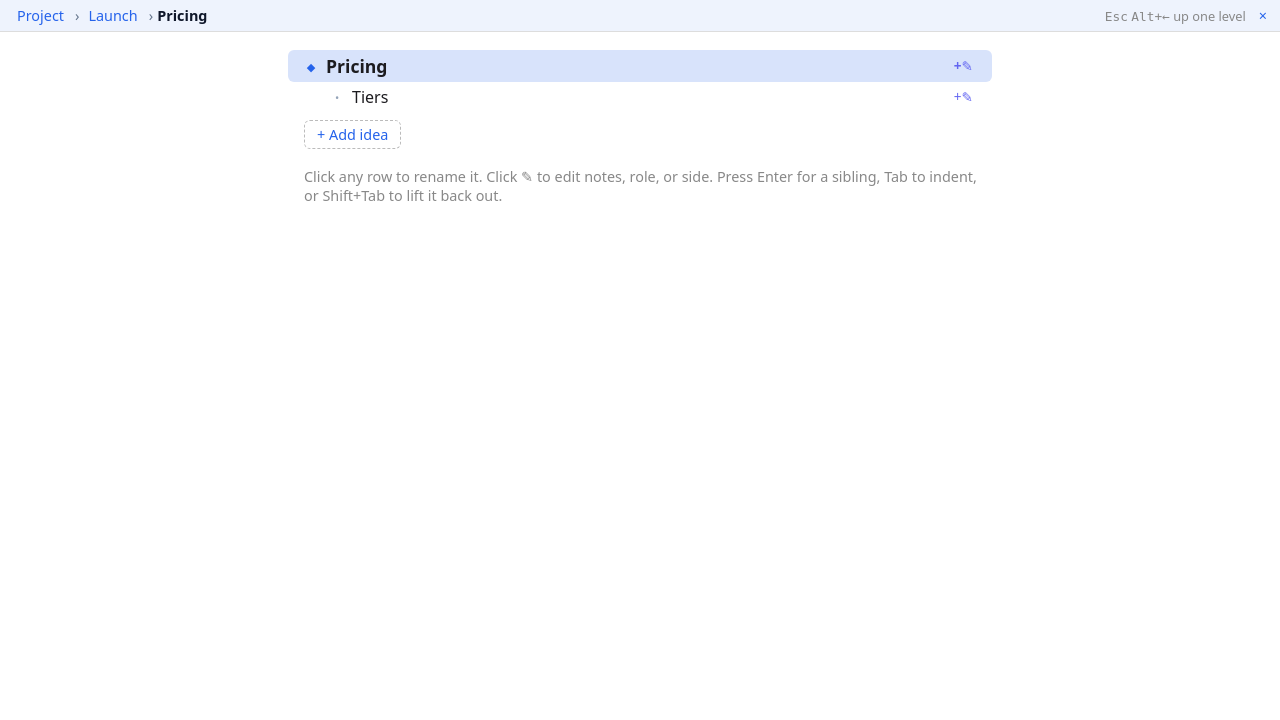
it: focused Outline (#146) › shows the branch as the root with a breadcrumb bar back to every level
This screenshot has width=1280, height=720.
Step 1. Click the button "Launch" → (113, 16), box [84,4,143,27]
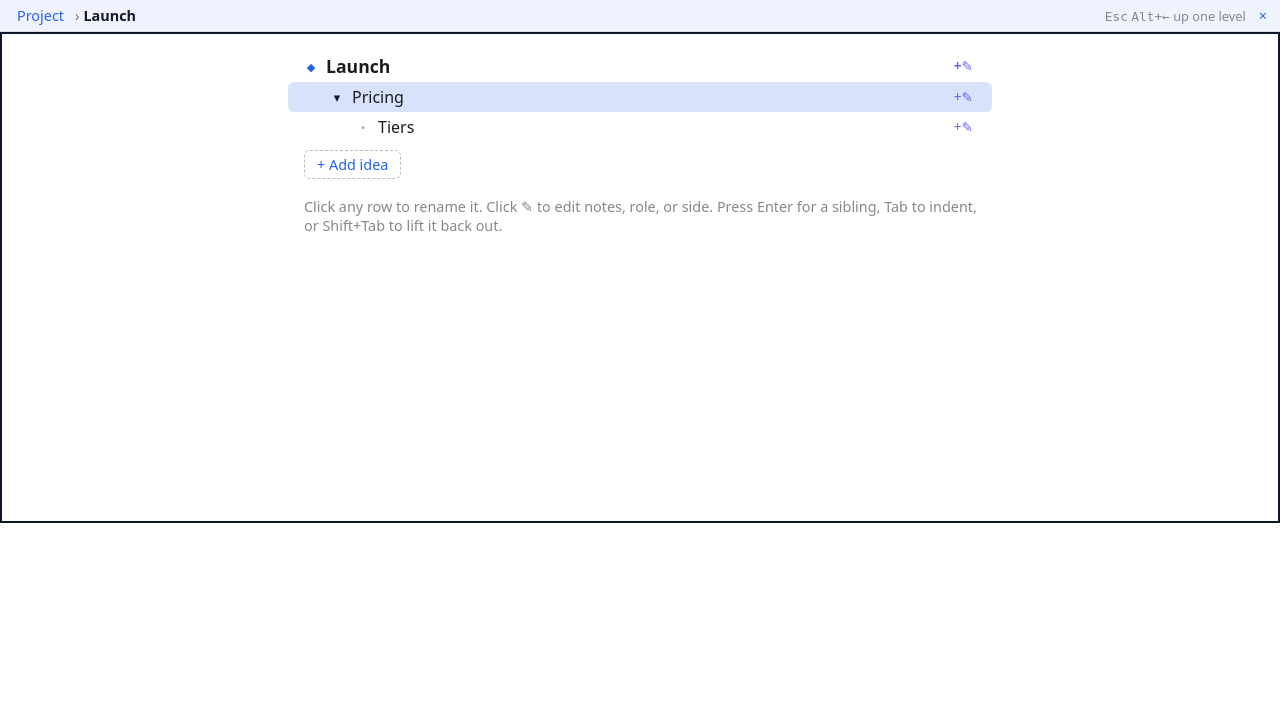
Now the list item with test id "outline-row-a" is shown, box [288,50,992,82]
Step 2. Click the button "Project" → (40, 16), box [12,4,69,27]
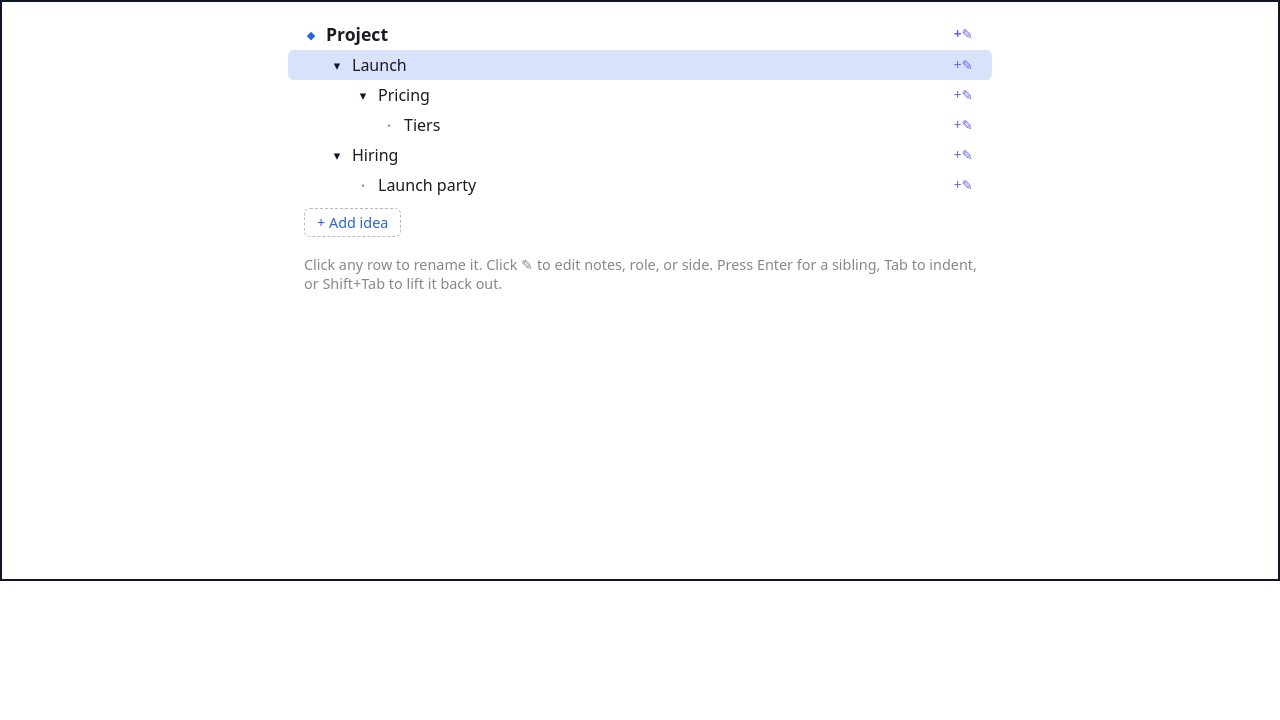
Now the navigation bar with test id "focus-bar-outline" is gone
